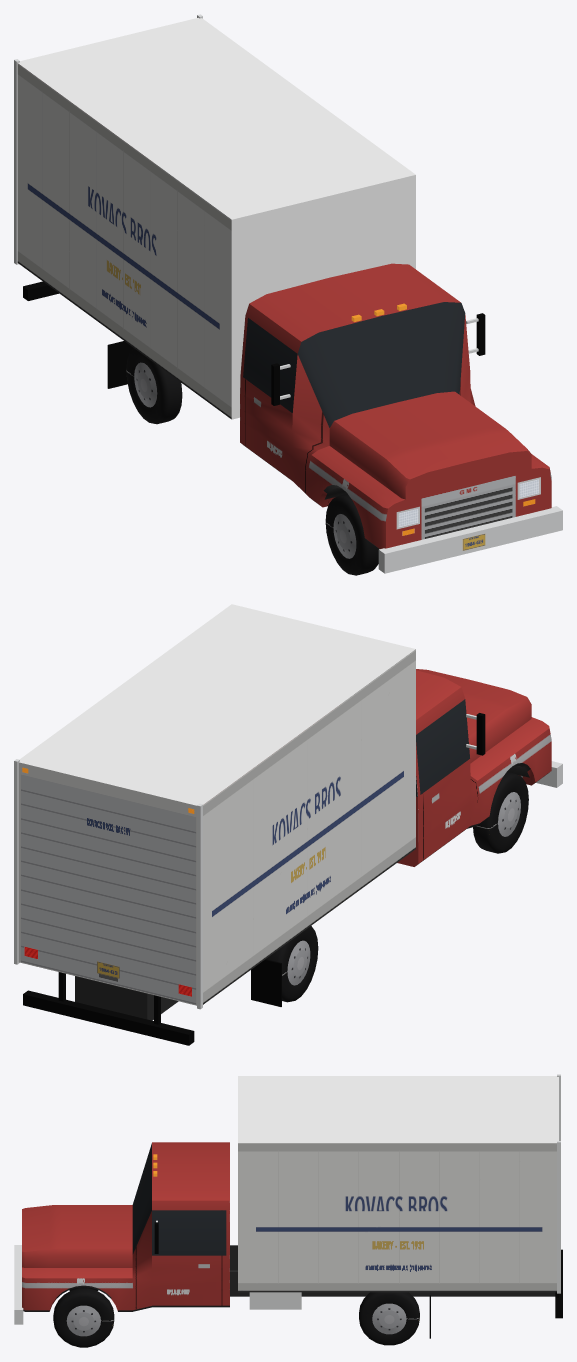
The model's file is boxtruck.glb.
3 views of the same model, one above another, from view 1: azimuth 30°, elevation 25°; view 2: azimuth 150°, elevation 25°; view 3: azimuth 270°, elevation 25° (orthographic). The views are drawn at different scales.
Visible parts, largest first — view 1: Body, Wheel_RR, Wheel_FR; view 2: Body, Wheel_FR, Wheel_RR; view 3: Body, Wheel_FL, Wheel_RL.
Boxes of the visible parts, x1,y1,x2,y2 form: Body: [14, 14, 562, 573]; Wheel_RR: [126, 348, 182, 424]; Wheel_FR: [325, 493, 379, 575]; Body: [14, 604, 562, 1045]; Wheel_FR: [473, 772, 528, 853]; Wheel_RR: [266, 926, 318, 1002]; Body: [14, 1074, 562, 1338]; Wheel_FL: [53, 1288, 114, 1347]; Wheel_RL: [359, 1292, 419, 1345].
Size of what is drawn, in the model's own units: 2.8 by 3.57 by 8.44.
11 materials, 11 textured.
